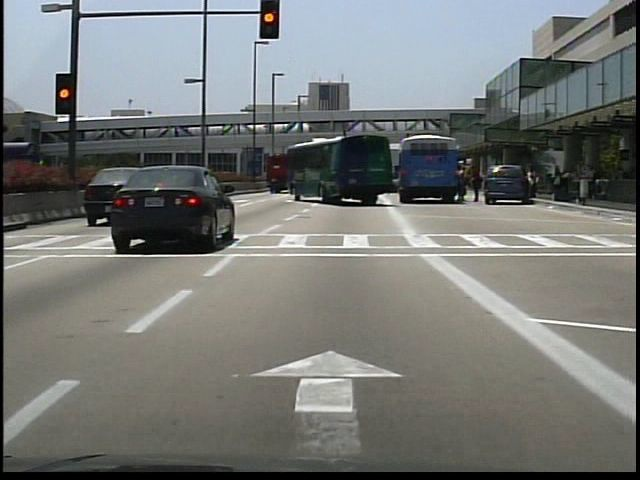person: (458, 163, 473, 204), (468, 162, 482, 205), (525, 168, 538, 205)
